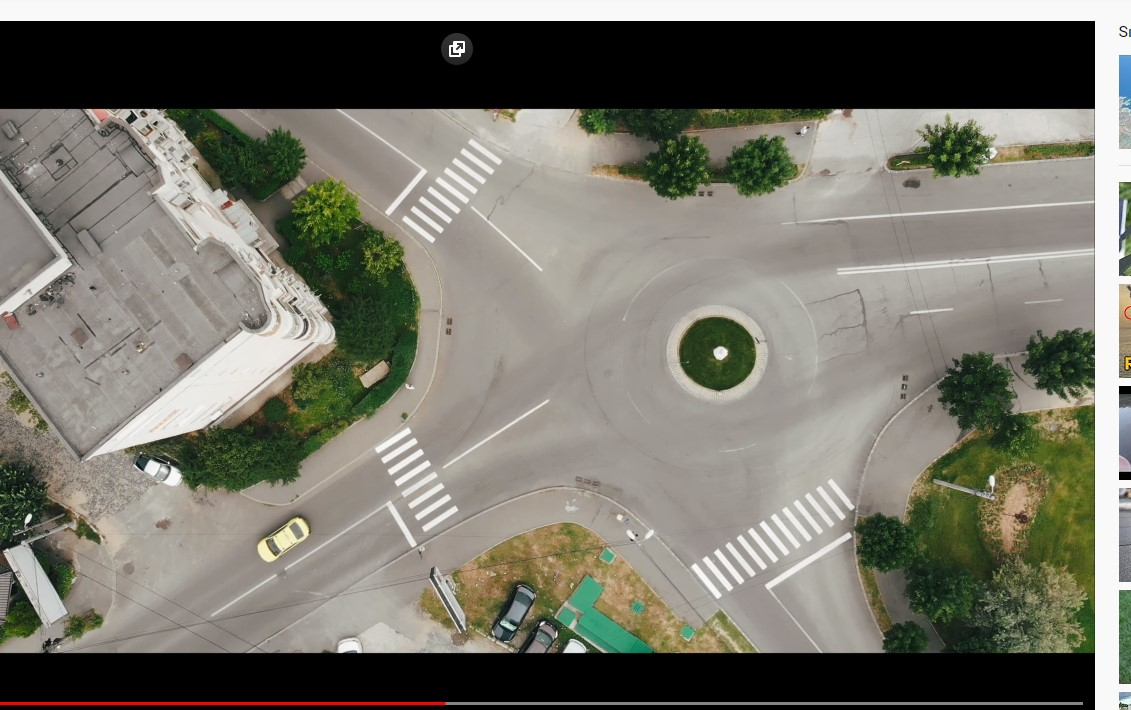araba: (486, 584, 536, 646), (256, 512, 313, 565), (130, 441, 190, 490), (523, 618, 557, 654)
insan: (794, 120, 813, 143)
